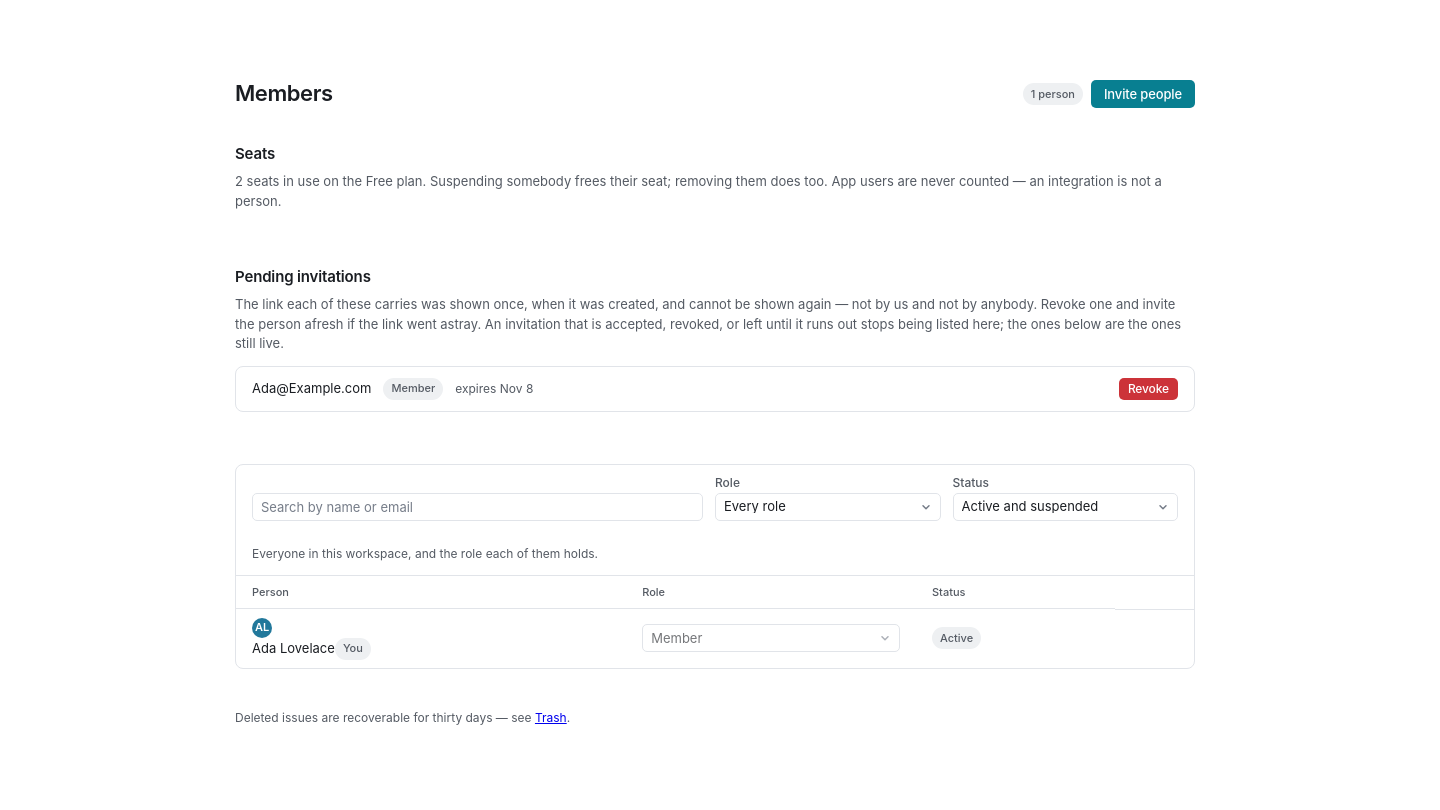
MemberSettings · creating an invitation › warns that inviting the same address again kills the link already sent
Expected: the button with aria-label "Revoke the invitation to Ada@Example.com" is shown, [1119,378,1178,400]
Click the button "Invite people" at (1143, 94), box [1091,80,1195,108]
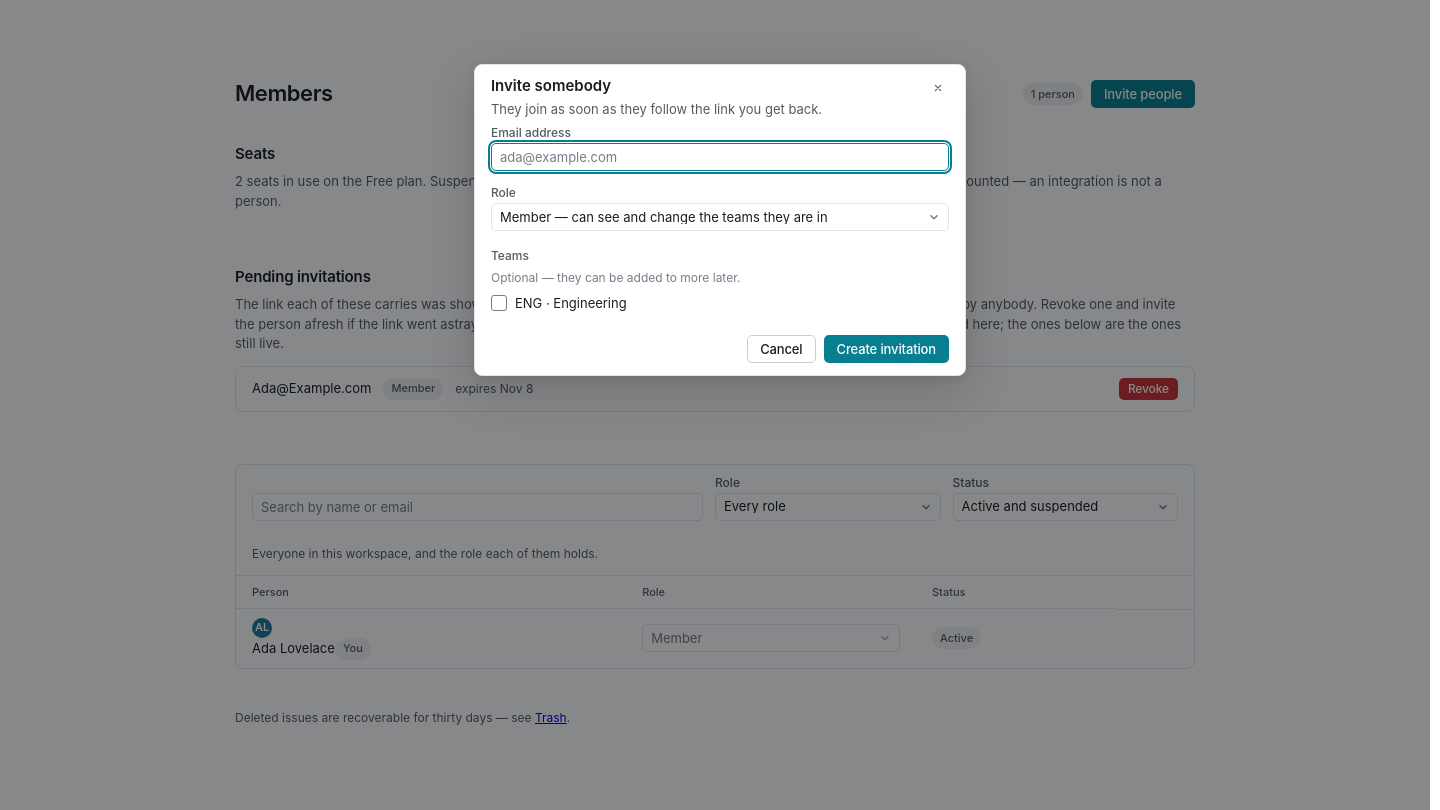
Type "ada@EXAMPLE.com" into the field labelled "Email address" at (720, 157), box [500,144,940,170]
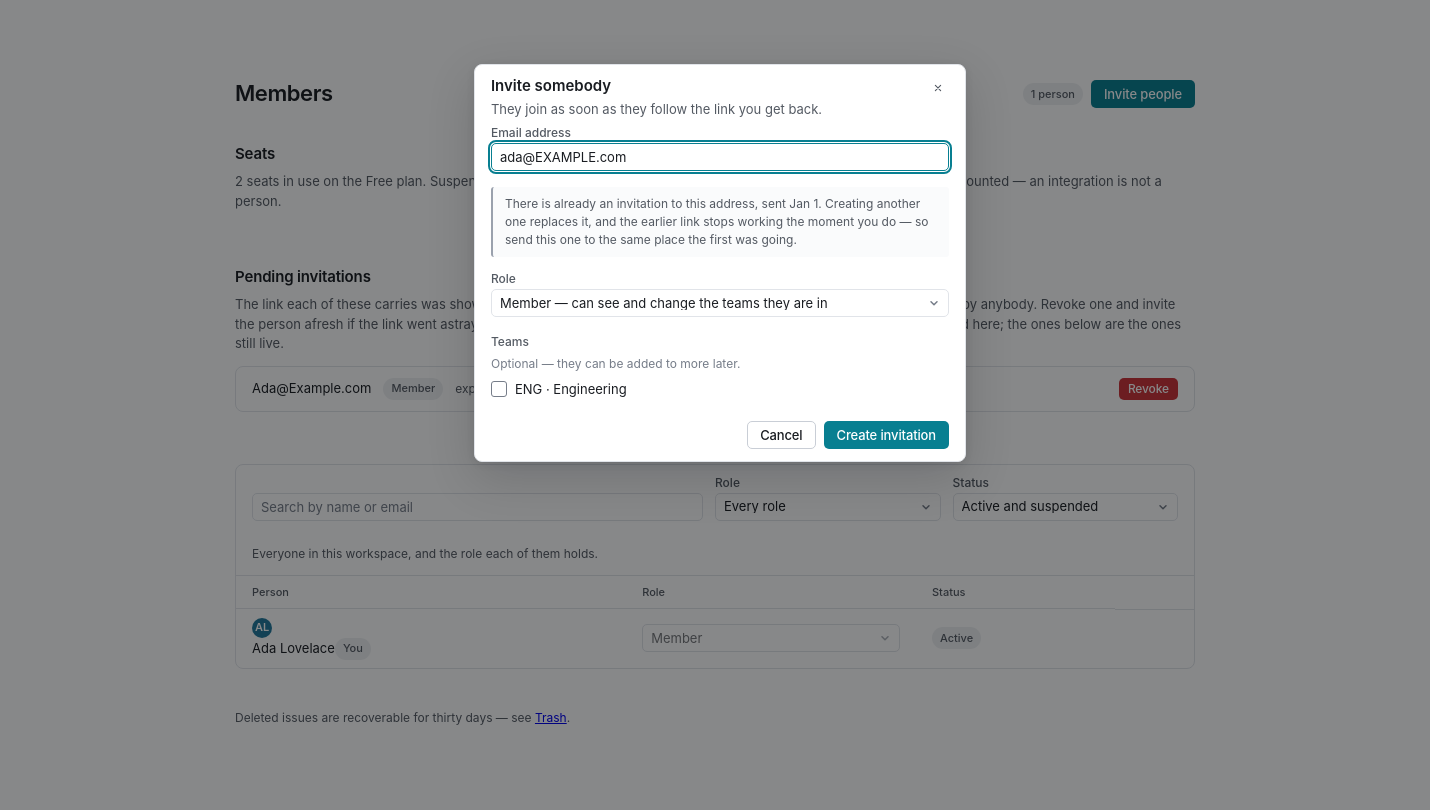
Expected: the text "There is already an invitation to this address" is shown, [505,196,789,211]
Expected: the text "earlier link stops working" is shown, [505,196,928,247]
